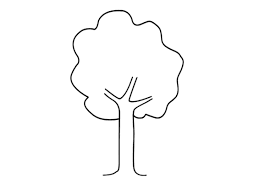tree: (55, 4, 191, 177)
